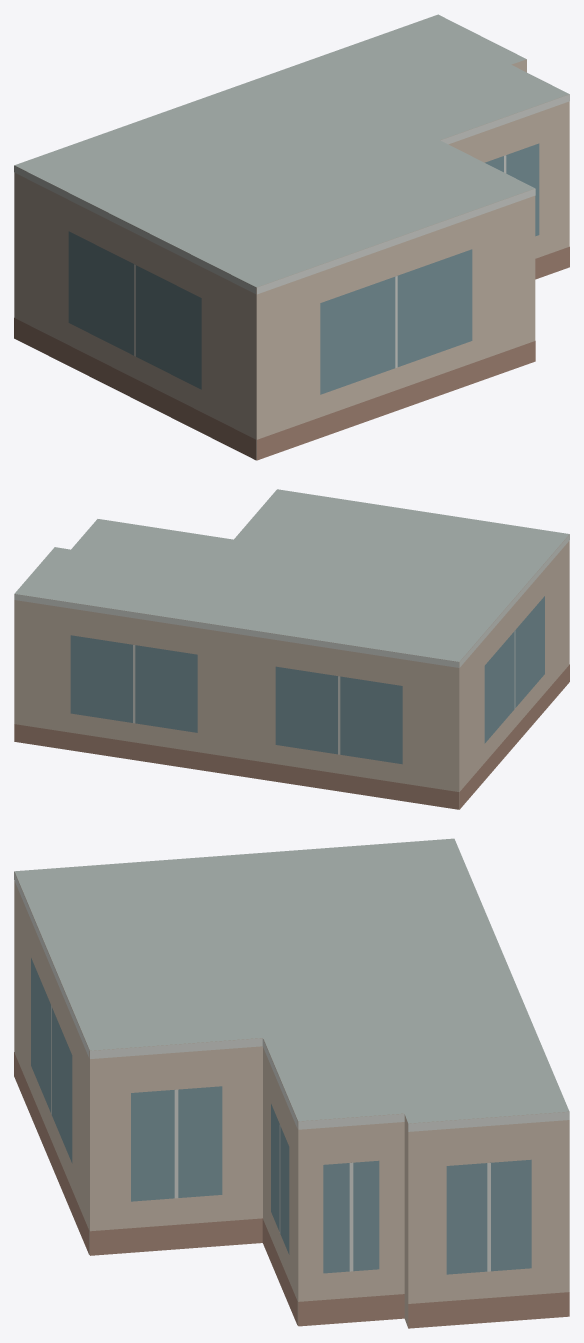
File: survey-upis-32825608.glb
3 views of the same model, one above another, from view 1: azimuth 30°, elevation 25°; view 2: azimuth 150°, elevation 25°; view 3: azimuth 270°, elevation 25° (orthographic). The views are drawn at different scales.
Visible parts, largest first — view 1: survey-upis-32825608.tmp; view 2: survey-upis-32825608.tmp; view 3: survey-upis-32825608.tmp.
Boxes of the visible parts, bbox=[...] form: survey-upis-32825608.tmp: bbox=[14, 14, 569, 460]; survey-upis-32825608.tmp: bbox=[14, 489, 569, 809]; survey-upis-32825608.tmp: bbox=[14, 838, 569, 1328].
Size of the model in its own units: 9.11 by 3.05 by 7.5.
